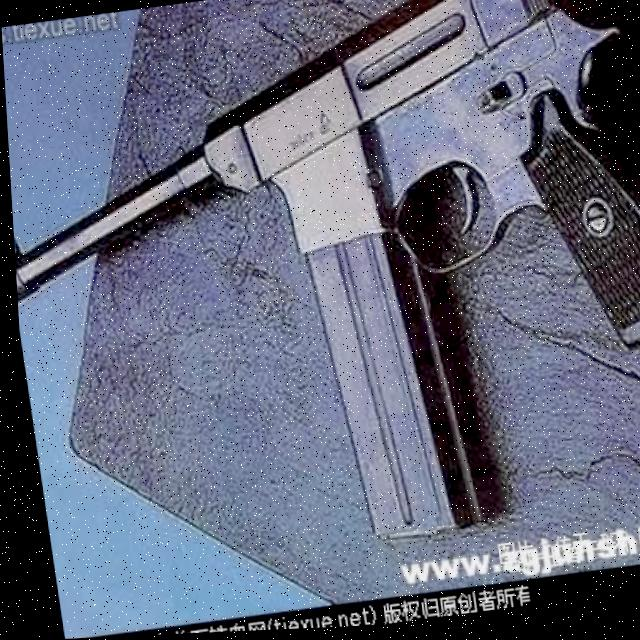pistol: (0, 0, 640, 594)
